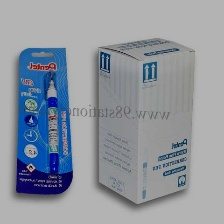book: (95, 35, 197, 206), (13, 45, 75, 196)
correction_fluid: (41, 69, 61, 176)
